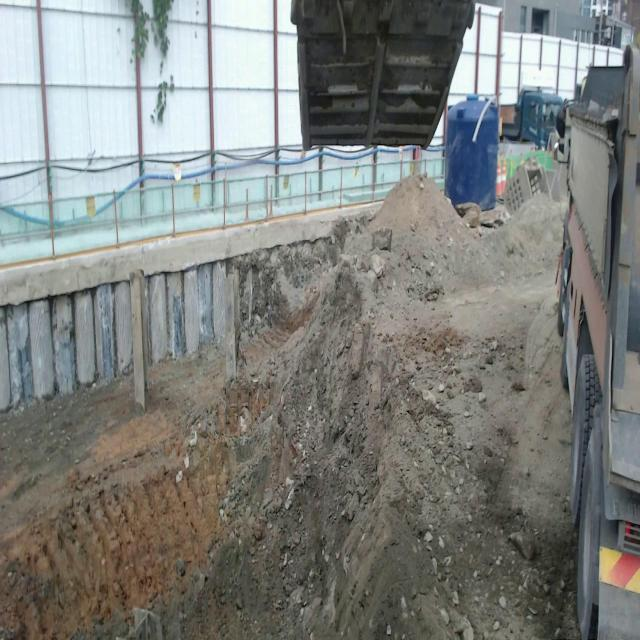red-sand: (0, 181, 576, 639)
